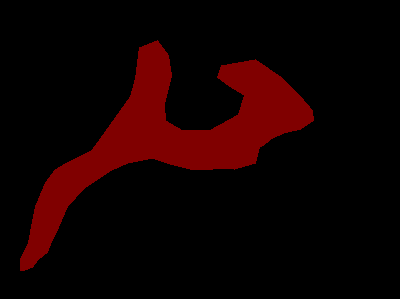fire: (20, 40, 313, 270)
